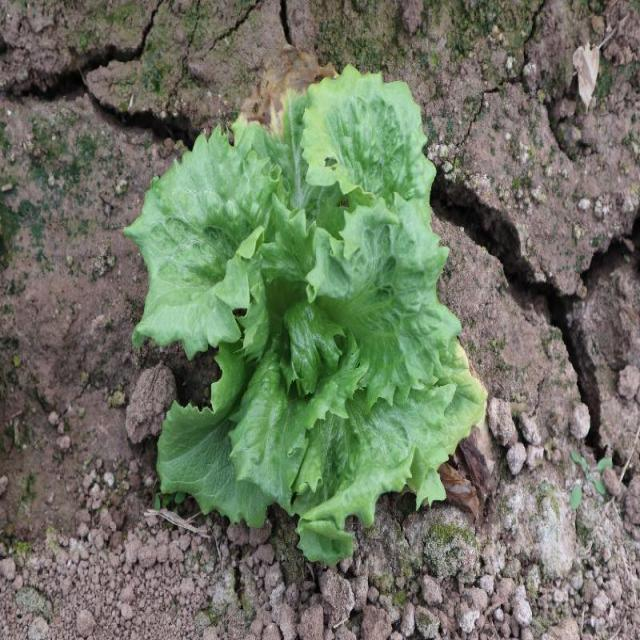crop: (124, 63, 489, 570)
